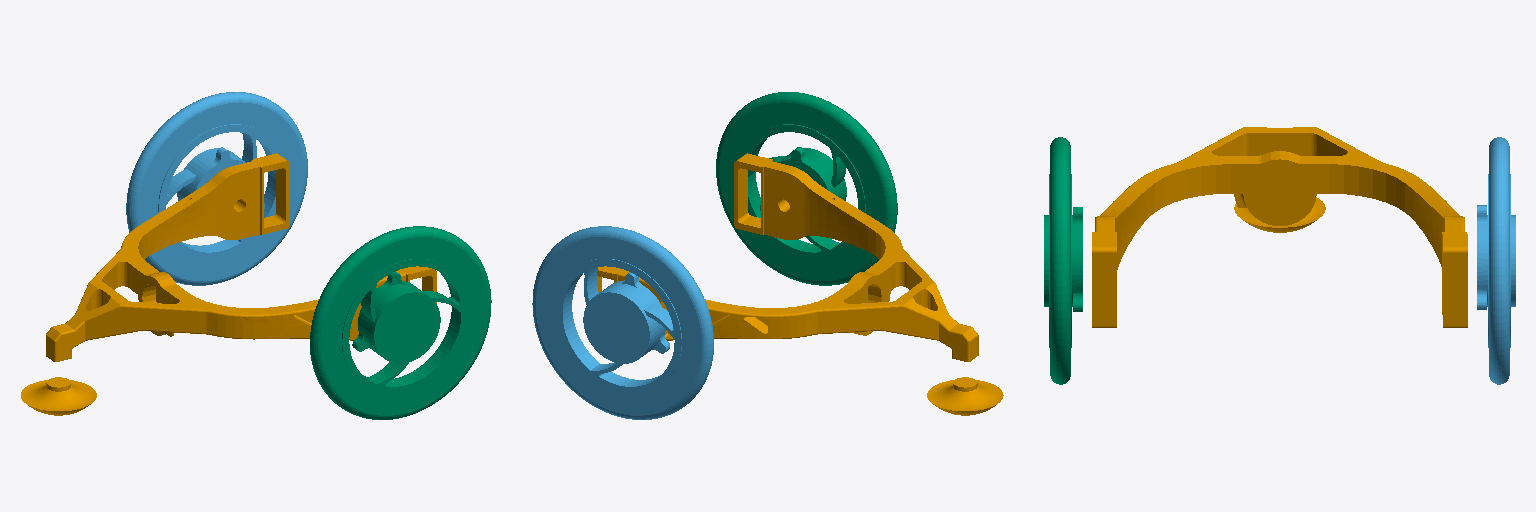
URDF robot description (Eve_base):
<?xml version="1.0" encoding="UTF-8" standalone="yes"?>
<robot xmlns:ns2="http://www.ros.org" xmlns:xi="http://www.w3.org/2003/XInclude" name="Eve_base">

  <link name="base">
    <inertial>
      <origin xyz="0.021997 0.006327 -0.006204" rpy="0.0 0.0 0.0"/>
      <mass value="13.647499"/>
      <inertia ixx="0.461101" ixy="-0.004042" ixz="-0.020010" iyy="0.246583" iyz="-0.000110" izz="0.679520"/>
    </inertial>
    <visual>
      <origin xyz="0.0 0.0 0.0" rpy="1.5707963 0.0 1.5707963"/>
      <geometry>
        <mesh filename="package://eve/meshes/base_wheels.obj" scale="1 1 1"/>
        <!-- <box size=".5 .15 .5" /> -->
      </geometry>
    </visual>
   <collision>
     <origin xyz="-0.28 0.0 -0.08" rpy="1.5707963 0.0 1.5707963"/>
     <geometry>
       <sphere radius="0.05"/>
     </geometry>
     <drake_compliance>
        <static_friction>0.0</static_friction>
        <dynamic_friction>0.0</dynamic_friction>
     </drake_compliance>
   </collision>
  </link>


  <joint name="j_l_wheel_y" type="revolute">
    <origin xyz="0.142 0.26983 0.019" rpy="0.0 0.0 0.0"/>
    <parent link="base"/>
    <child link="l_wheel"/>
    <axis xyz="0.0 1.0 0.0"/>
    <limit lower="-1.0E16" upper="1.0E16" effort="-1.0" velocity="1.0"/>
  </joint>
 <transmission name="j_l_wheel_y_trans">
   <type>SimpleTransmission</type>
   <joint name="j_l_wheel_y">
     <hardwareInterface>EffortJointInterface</hardwareInterface>
   </joint>
   <actuator name="j_l_wheel_y_actuator">
   </actuator>
 </transmission>
  <link name="l_wheel">
    <inertial>
      <origin xyz="0.0 0.0 0.0" rpy="0.0 0.0 0.0"/>
      <mass value="1.52693"/>
      <inertia ixx="0.007129" ixy="-0.0" ixz="-0.0" iyy="0.013685" iyz="-0.0" izz="0.007131"/>
    </inertial>
    <visual>
      <origin xyz="0.0 0.0 0.0" rpy="1.5707963 0.0 -1.5707963"/>
      <geometry>
        <mesh filename="package://eve/meshes/wheel.obj" scale="1 1 1"/>
      </geometry>
    </visual>
   <collision>
     <origin xyz="0.0 0.0 0.0" rpy="1.5707963 0.0 0.0"/>
     <geometry>
       <sphere radius="0.15"/>
     </geometry>
   </collision>
  </link>
  <joint name="j_r_wheel_y" type="revolute">
    <origin xyz="0.142 -0.26983 0.019" rpy="0.0 0.0 0.0"/>
    <parent link="base"/>
    <child link="r_wheel"/>
    <axis xyz="0.0 1.0 0.0"/>
    <limit lower="-1.0E16" upper="1.0E16" effort="-1.0" velocity="1.0"/>
  </joint>
 <transmission name="j_r_wheel_y_trans">
   <type>SimpleTransmission</type>
   <joint name="j_r_wheel_y">
     <hardwareInterface>EffortJointInterface</hardwareInterface>
   </joint>
   <actuator name="j_r_wheel_y_actuator">
   </actuator>
 </transmission>
  <link name="r_wheel">
    <inertial>
      <origin xyz="0.0 0.0 0.0" rpy="0.0 0.0 0.0"/>
      <mass value="1.52693"/>
      <inertia ixx="0.007129" ixy="-0.0" ixz="-0.0" iyy="0.013685" iyz="-0.0" izz="0.007131"/>
    </inertial>
    <visual>
      <origin xyz="0.0 0.0 0.0" rpy="1.5707963 0.0 1.5707963"/>
      <geometry>
        <mesh filename="package://eve/meshes/wheel.obj" scale="1 1 1"/>
      </geometry>
    </visual>
   <collision>
     <origin xyz="0.0 0.0 0.0" rpy="1.5707963 0.0 0.0"/>
     <geometry>
       <sphere radius="0.15"/>
     </geometry>
   </collision>
  </link>

</robot>

--- Facts derived from the render (not from the file) ---
3 views of the same robot in one strip: view 1: azimuth 30°, elevation 25°; view 2: azimuth 150°, elevation 25°; view 3: azimuth 270°, elevation 25° (orthographic).
Robot: Eve_base — 3 links, 2 joints (2 revolute); root link base; default pose: every joint at zero.
Links seen in each view (by area): view 1: r_wheel, base, l_wheel; view 2: l_wheel, base, r_wheel; view 3: base, r_wheel, l_wheel.
Link boxes in pixels (x1=…): r_wheel: x1=310, y1=226, x2=491, y2=419; base: x1=21, y1=153, x2=436, y2=415; l_wheel: x1=126, y1=92, x2=307, y2=285; l_wheel: x1=532, y1=226, x2=713, y2=419; base: x1=597, y1=153, x2=1003, y2=415; r_wheel: x1=716, y1=92, x2=897, y2=285; base: x1=1092, y1=127, x2=1467, y2=327; r_wheel: x1=1044, y1=137, x2=1082, y2=384; l_wheel: x1=1477, y1=137, x2=1515, y2=384.
Size in the robot's own frame: 0.6336 by 0.5797 by 0.3048 metres.
3 mesh visuals loaded from 2 distinct referenced files (2 OBJ).
